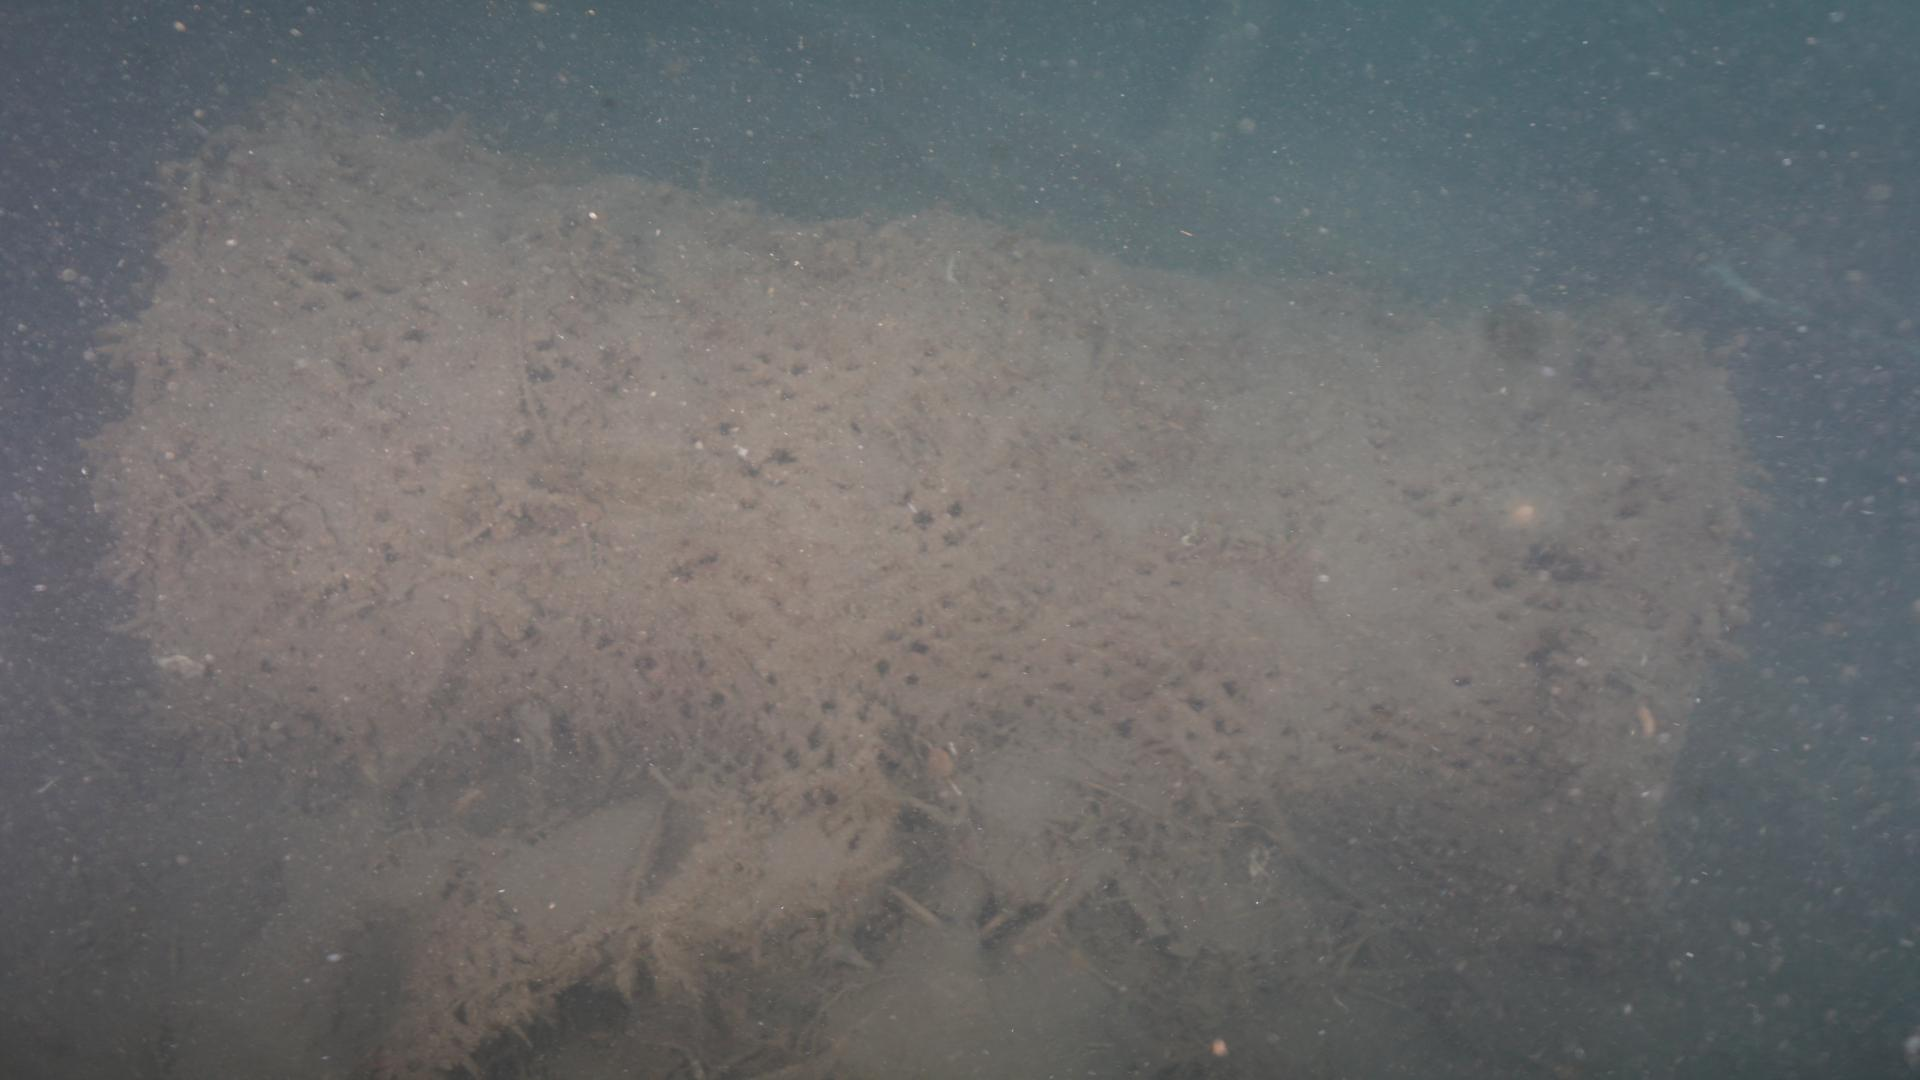spring fish trap: (102, 75, 1746, 947)
